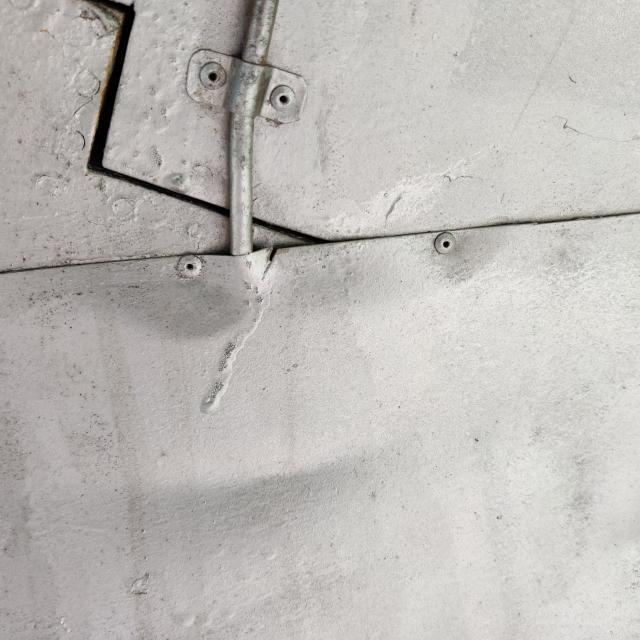crack: (252, 228, 297, 284)
